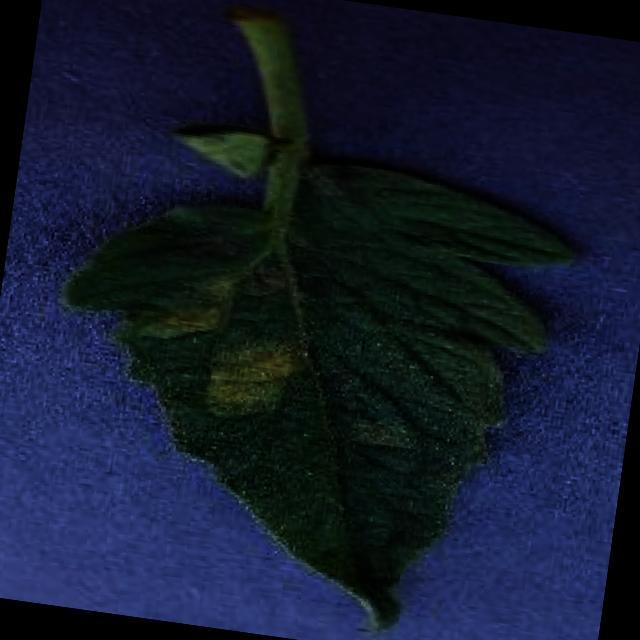Tomato mold leaf: (28, 126, 588, 640)
